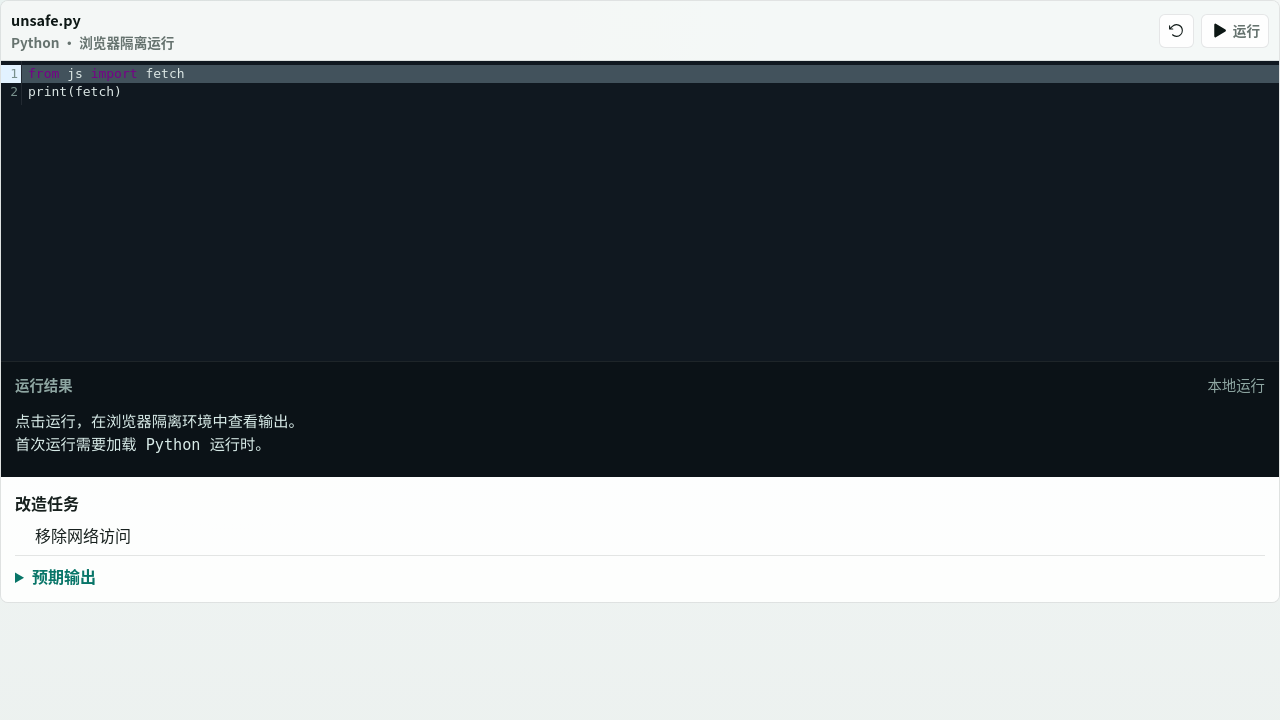
ResourceRenderer › blocks unsafe Python before starting the worker
This screenshot has width=1280, height=720.
What coordinates should you click on to do the following:
click the button with aria-label "运行 Python 代码"
I would click on:
 (1235, 30)
Its box is [1201, 14, 1269, 48].
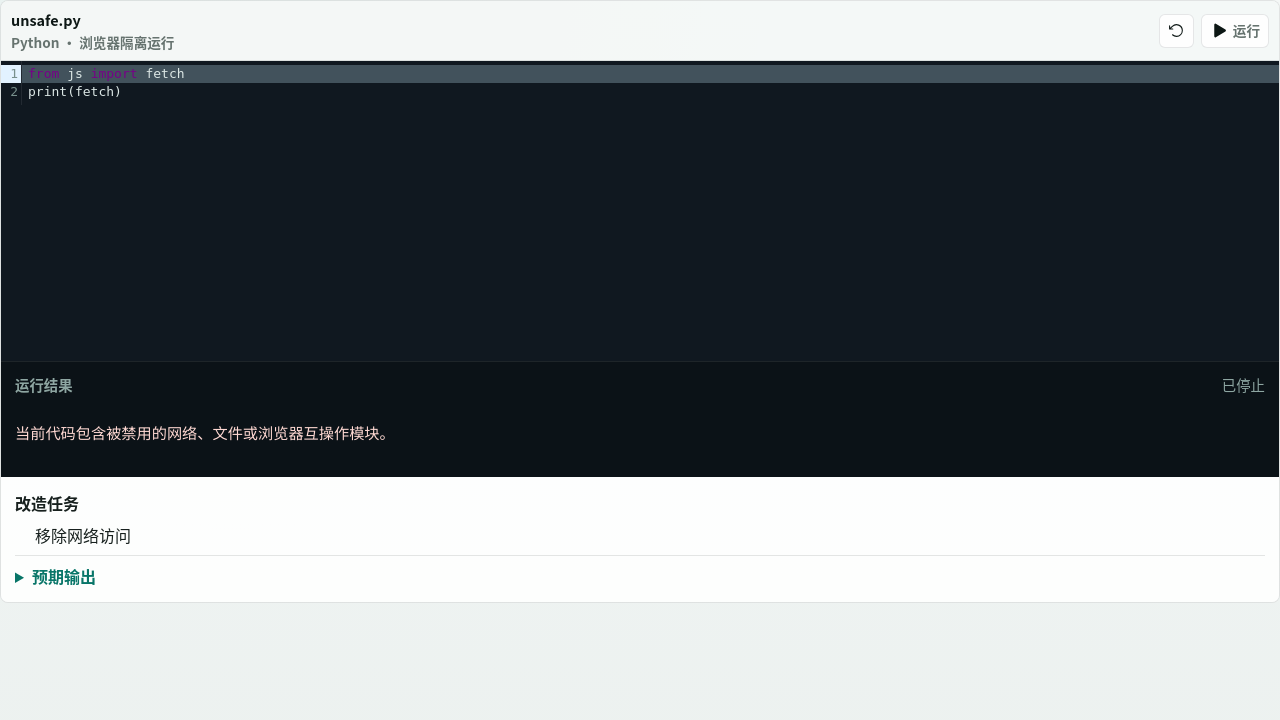
Expected: the text "当前代码包含被禁用的网络、文件或浏览器互操作模块。" is shown, [15, 424, 395, 442]
